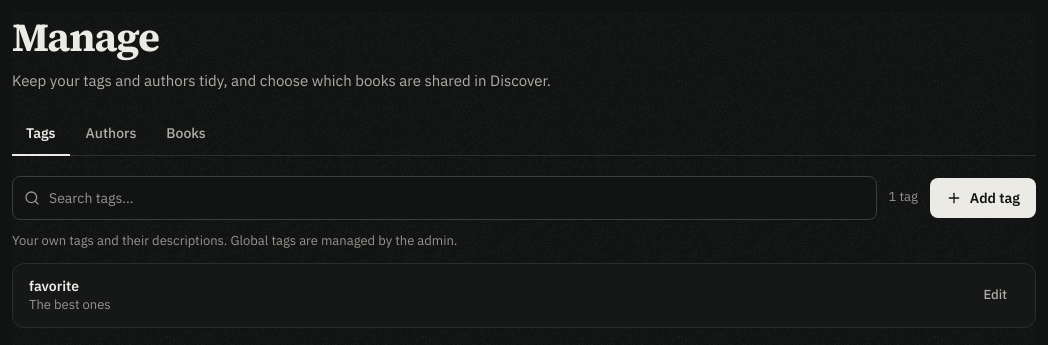
Test: ManagePage › keeps the current users public authors editable
Click the tab "Authors".
click(111, 134)  # box [72, 112, 150, 156]
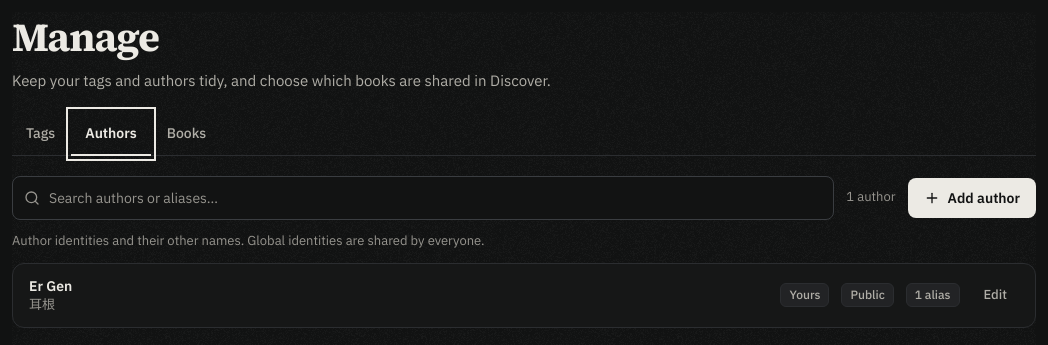
Check: the button with aria-label "Edit author Er Gen" is shown, box [972, 278, 1019, 312]
Check: the text "Yours" is shown, box [780, 283, 830, 307]
Check: the text "Public" is shown, box [842, 283, 894, 307]
